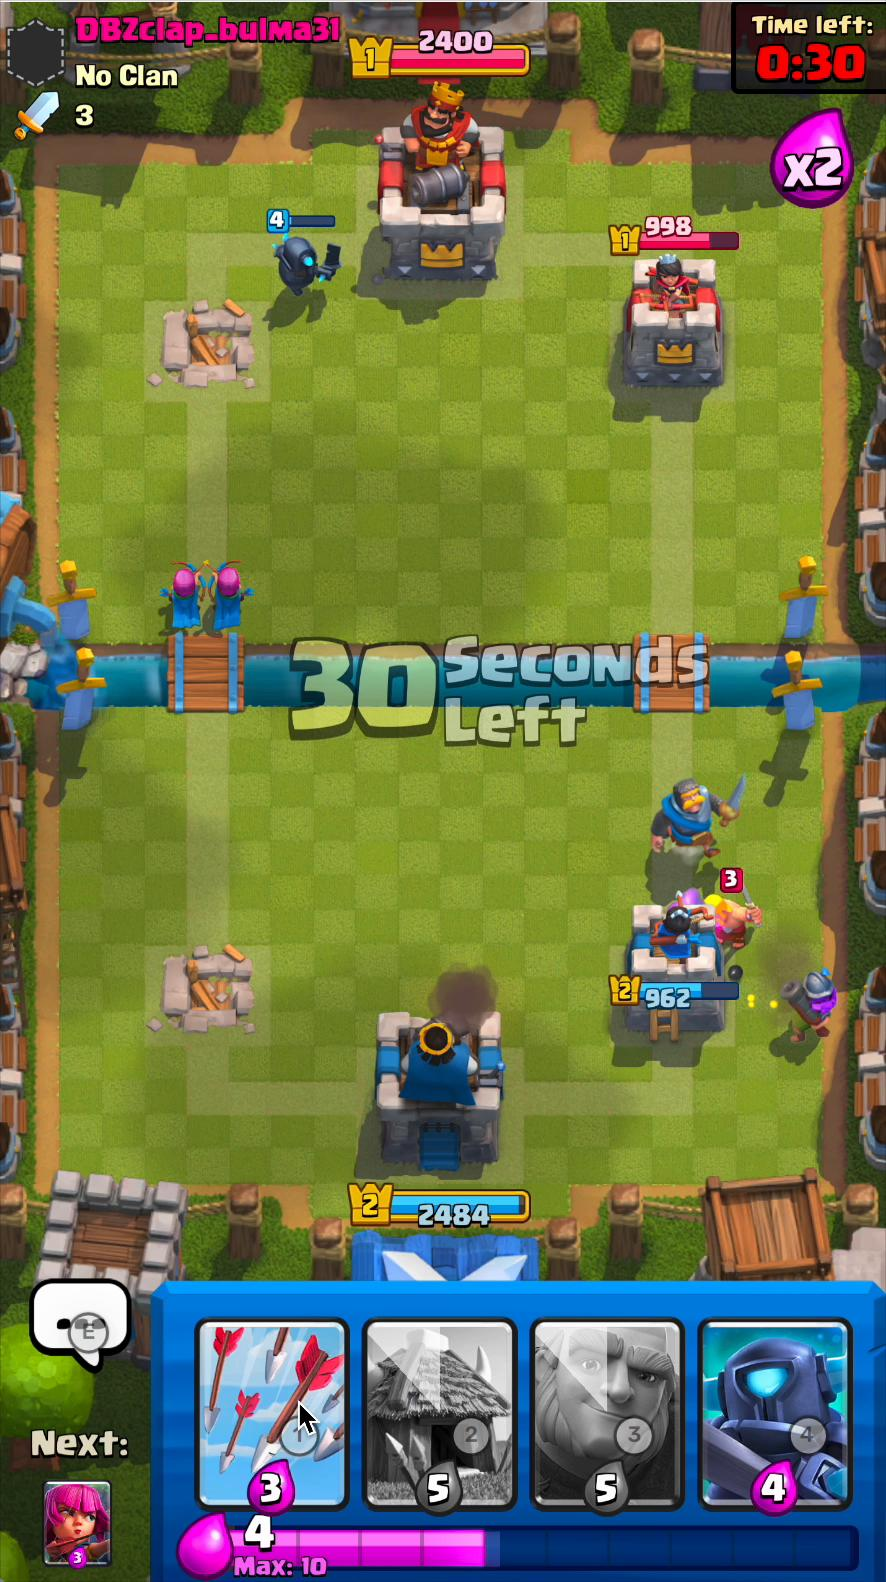archere: (163, 550, 212, 637), (211, 553, 251, 637)
chevalier: (645, 776, 752, 866)
mini_PEKKA: (257, 217, 345, 307)
mousquetaire: (777, 969, 834, 1049)
